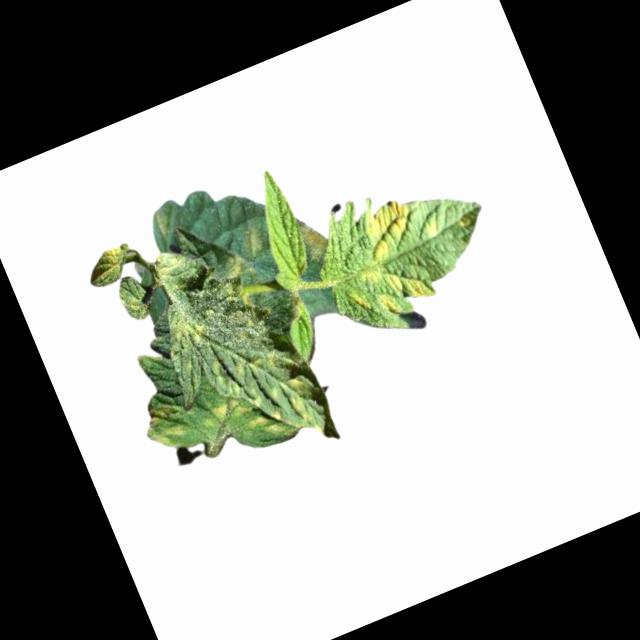Leaf_Mold: (343, 244, 437, 328), (352, 194, 421, 264), (271, 367, 333, 439), (139, 397, 193, 452), (162, 308, 213, 360), (83, 240, 136, 289), (201, 392, 254, 435), (289, 211, 331, 264), (244, 409, 284, 446), (218, 249, 252, 284), (235, 225, 267, 259)
